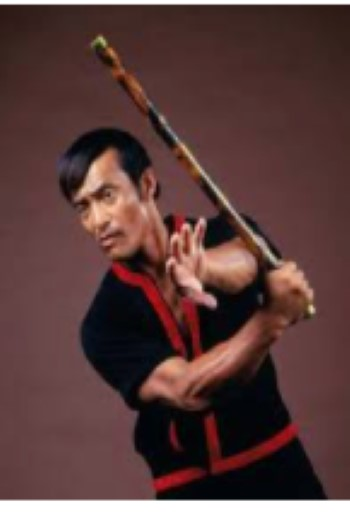baston_e: (125, 54, 270, 268)
baston_v: (81, 26, 113, 55), (300, 302, 320, 319)
